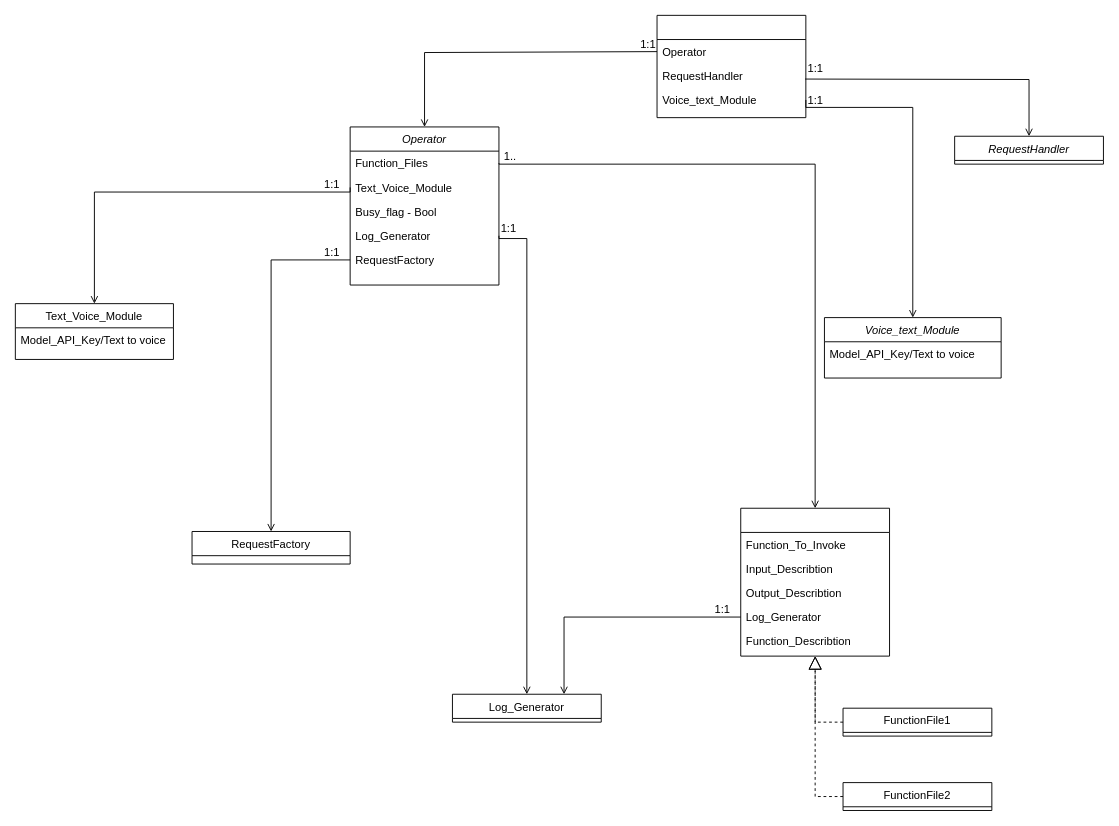
This 1119x826 diagram has some shape labels left out. Here are the shapes that lost their labels. From the top down, the box of each, then its label:
(656, 14, 806, 118): OperatorApp
(740, 507, 890, 656): FunctionFile (Abstract)
